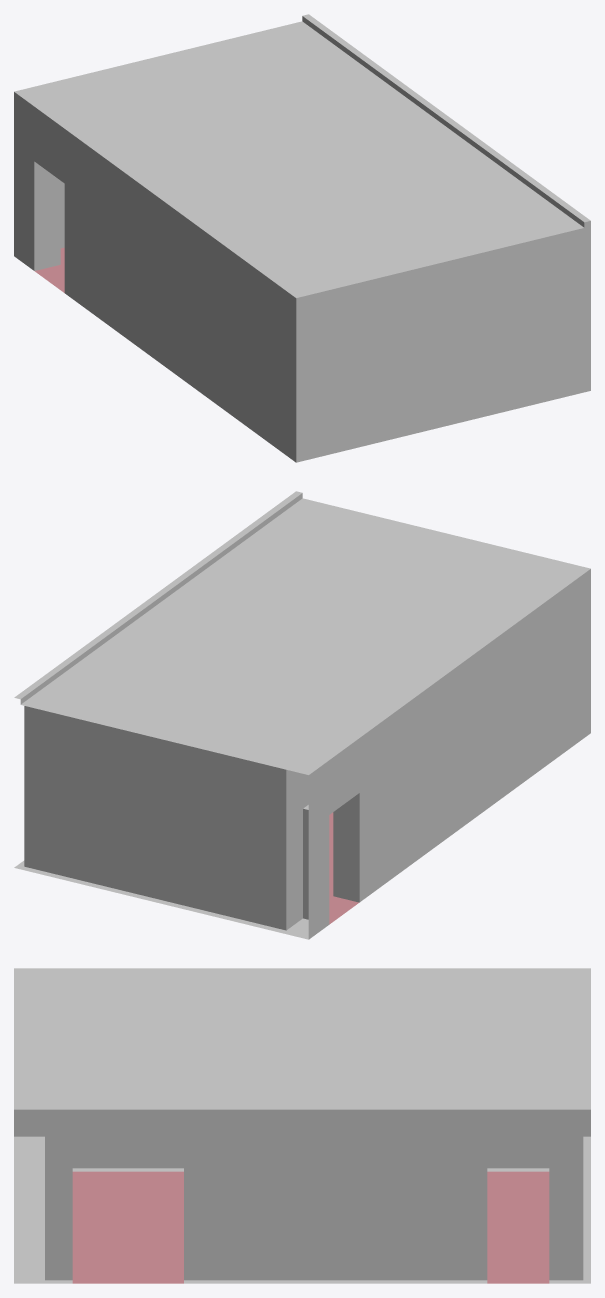
File: Cocina.fbx
3 views of the same model, one above another, from view 1: azimuth 30°, elevation 25°; view 2: azimuth 150°, elevation 25°; view 3: azimuth 270°, elevation 25° (orthographic). The views are drawn at different scales.
Visible parts, largest first — view 1: Cocina; view 2: Cocina; view 3: Cocina.
Boxes of the visible parts, x1,y1,x2,y2 form: Cocina: (14, 14, 590, 462); Cocina: (14, 491, 590, 939); Cocina: (14, 968, 590, 1283).
Size of the model in its own units: 562 by 310 by 933.
